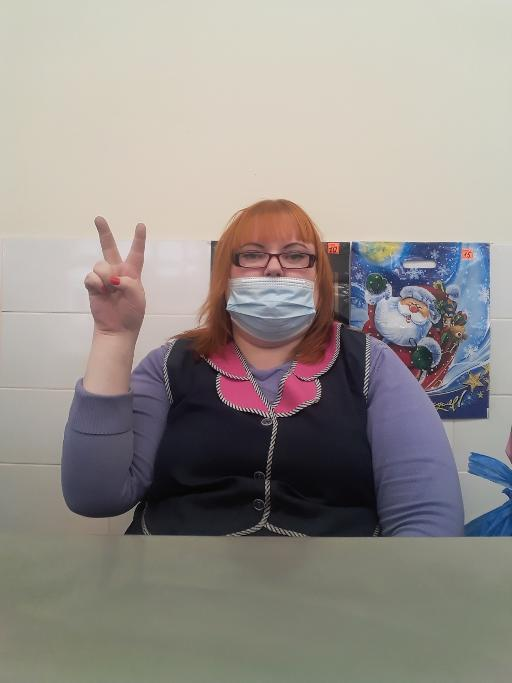peace: (83, 214, 148, 336)
